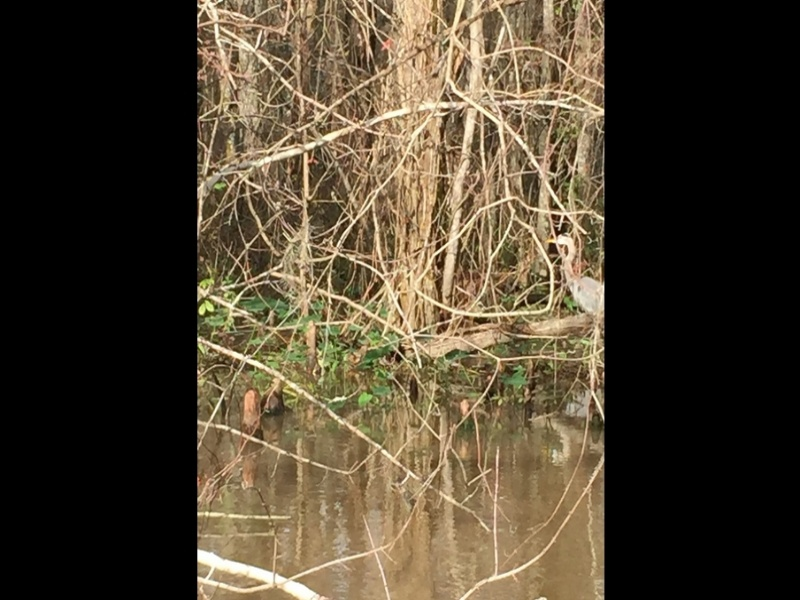heron: (546, 229, 605, 334)
